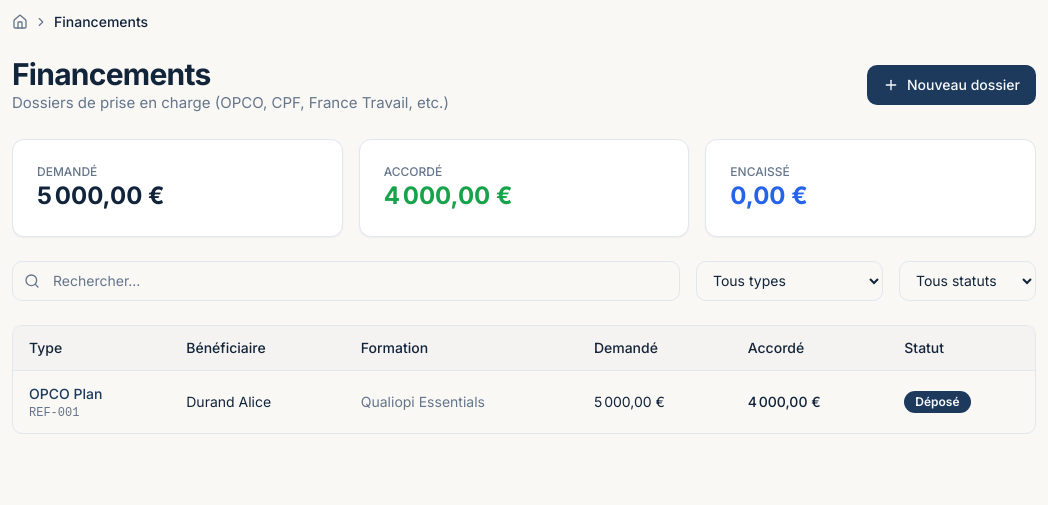
Test: FundingListPage › shows "aucun résultat" when search filters everything out
The image size is (1048, 505).
Type "zzz" into the field with placeholder "Rechercher..." at (346, 280), box [12,260,680,300]
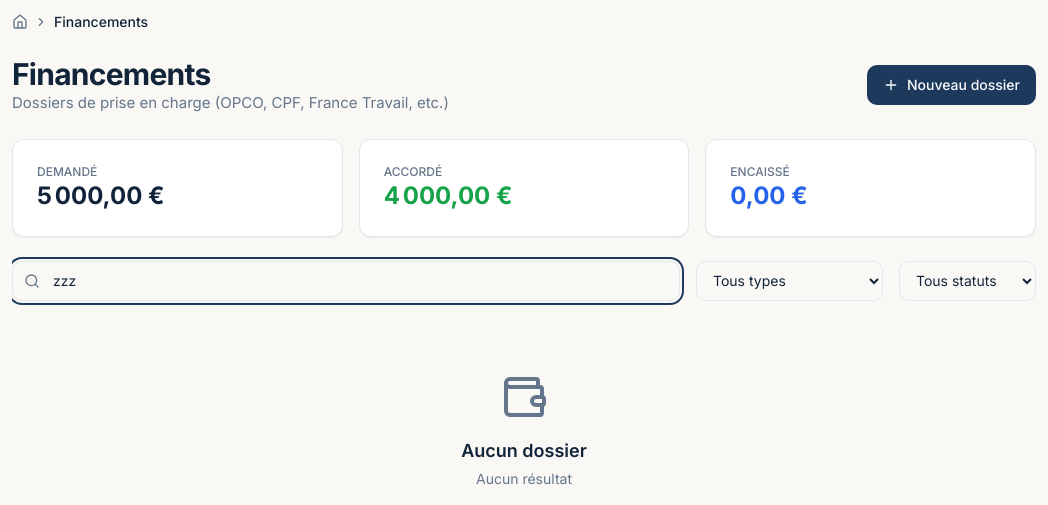
Result: the heading "Aucun dossier" is shown at [461,436,587,464]
Result: the text "Aucun résultat" is shown at [476,468,572,488]
